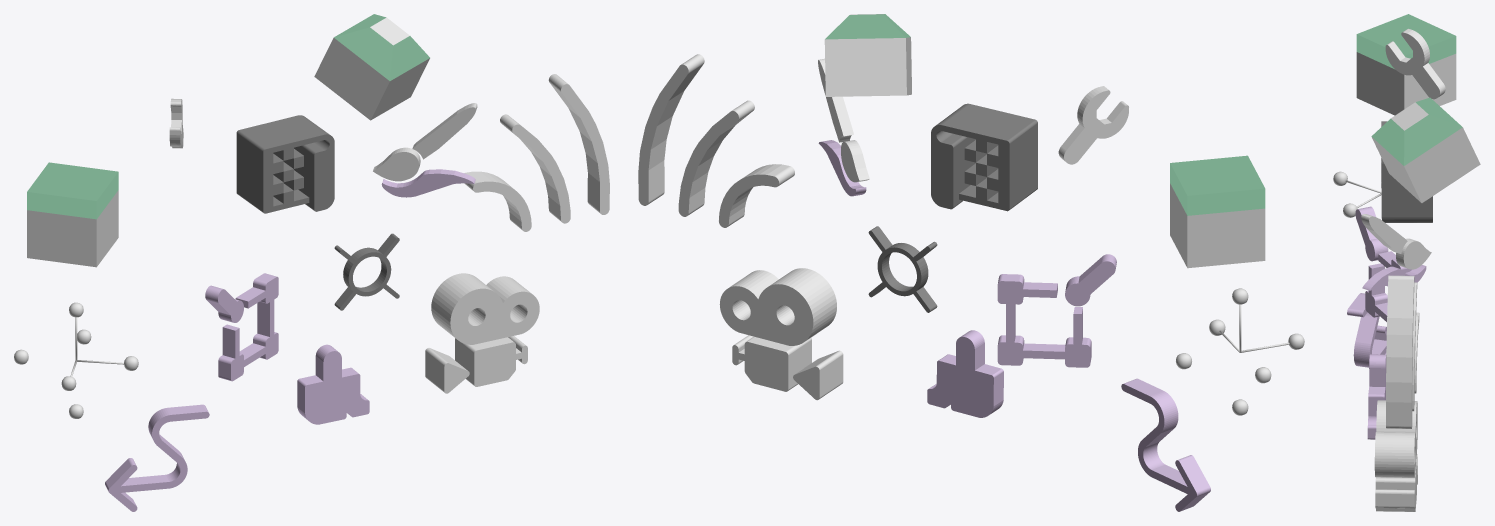
File: LessonMov.glb
The picture shows the model from 3 angles, left to right: view 1: azimuth 30°, elevation 25°; view 2: azimuth 150°, elevation 25°; view 3: azimuth 270°, elevation 25°; orthographic projection. The views are drawn at different scales.
Visible parts, largest first — view 1: view_camera.svg, Cube.003, Curve.001, Cube.005, outliner_data_curves.svg, normals_vertex.svg, brush.sculpt.paint.svg, brush_data.svg, anim.svg, Curve, Cube, modifier.svg; view 2: view_camera.svg, Curve.001, Cube.003, outliner_data_curves.svg, Cube.005, normals_vertex.svg, brush_data.svg, anim.svg, brush.sculpt.paint.svg, modifier.svg, Curve, Cube; view 3: Cube.005, Cube.003, outliner_data_curves.svg, view_camera.svg, brush.sculpt.paint.svg, modifier.svg, Curve.001, normals_vertex.svg, anim.svg, brush_data.svg, Cube.
Boxes of the visible parts, x1,y1,x2,y2 form: view_camera.svg: [425, 273, 539, 393]; Cube.003: [27, 162, 118, 267]; Curve.001: [236, 115, 334, 213]; Cube.005: [314, 14, 429, 120]; outliner_data_curves.svg: [464, 74, 609, 231]; normals_vertex.svg: [205, 273, 278, 381]; brush.sculpt.paint.svg: [373, 103, 477, 197]; brush_data.svg: [297, 344, 369, 424]; anim.svg: [105, 404, 209, 511]; Curve: [334, 233, 399, 310]; Cube: [14, 302, 138, 418]; modifier.svg: [169, 98, 183, 148]; view_camera.svg: [719, 268, 843, 400]; Curve.001: [931, 103, 1037, 211]; Cube.003: [1170, 155, 1265, 268]; outliner_data_curves.svg: [638, 54, 794, 227]; Cube.005: [824, 14, 911, 96]; normals_vertex.svg: [997, 254, 1116, 367]; brush_data.svg: [927, 330, 1003, 417]; anim.svg: [1121, 378, 1210, 511]; brush.sculpt.paint.svg: [818, 58, 869, 196]; modifier.svg: [1058, 86, 1128, 164]; Curve: [868, 226, 937, 312]; Cube: [1176, 288, 1304, 415]; Cube.005: [1371, 97, 1480, 202]; Cube.003: [1356, 14, 1456, 115]; outliner_data_curves.svg: [1386, 275, 1419, 428]; view_camera.svg: [1374, 400, 1417, 511]; brush.sculpt.paint.svg: [1361, 214, 1431, 290]; modifier.svg: [1385, 28, 1445, 99]; Curve.001: [1381, 121, 1432, 222]; normals_vertex.svg: [1355, 206, 1411, 321]; anim.svg: [1347, 293, 1386, 368]; brush_data.svg: [1367, 354, 1386, 439]; Cube: [1333, 171, 1381, 217].
Size of the model in its own units: 5.79 by 3.85 by 1.32.
